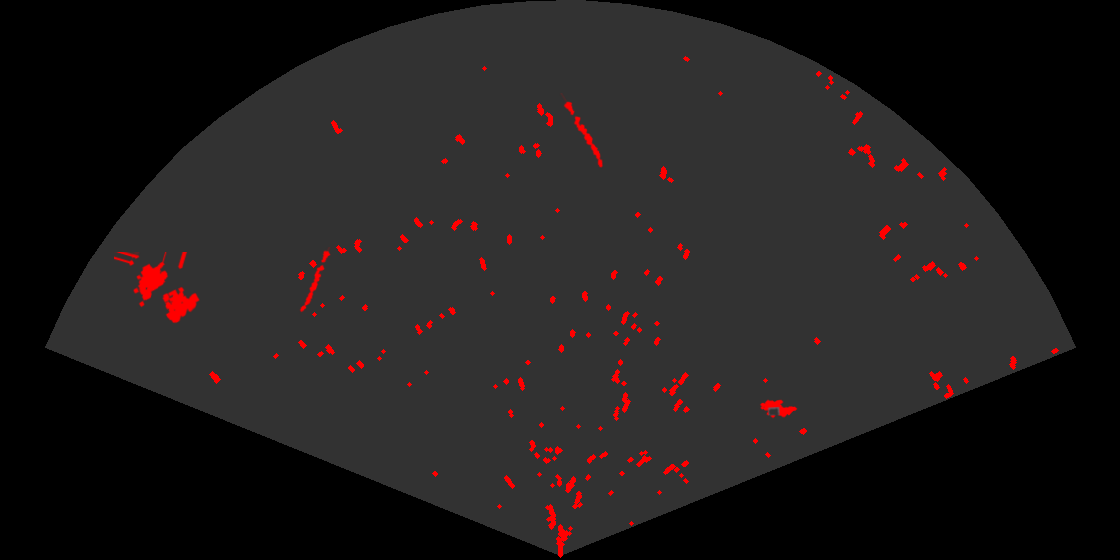AUV: (758, 398, 799, 419)
cage: (114, 252, 201, 325)
chain: (559, 93, 605, 169), (298, 247, 332, 315)
